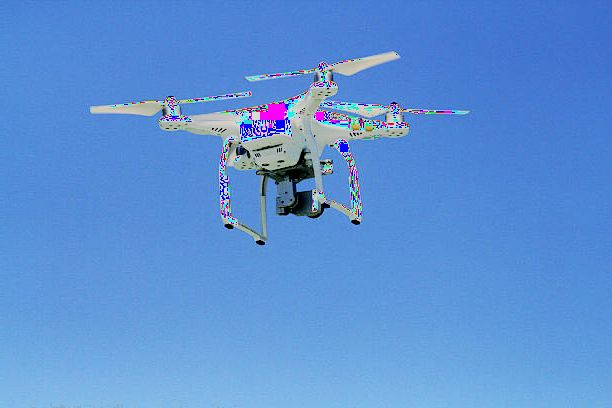Drone: (86, 46, 472, 246)
